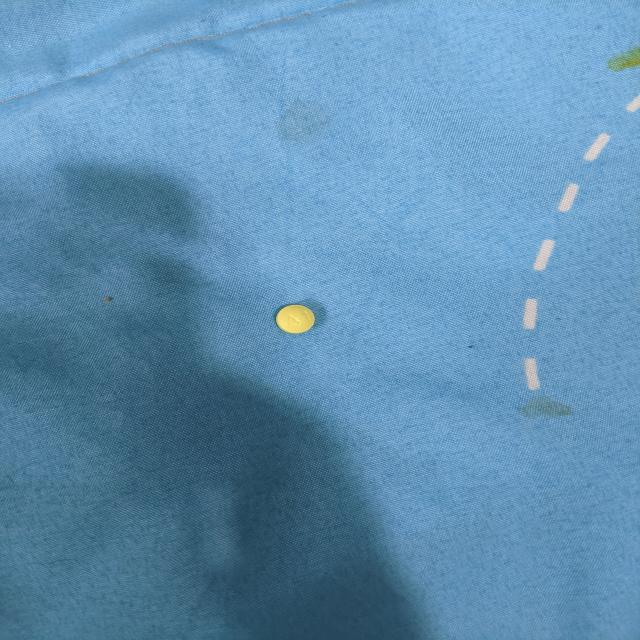non-organic waste: (276, 304, 316, 334)
